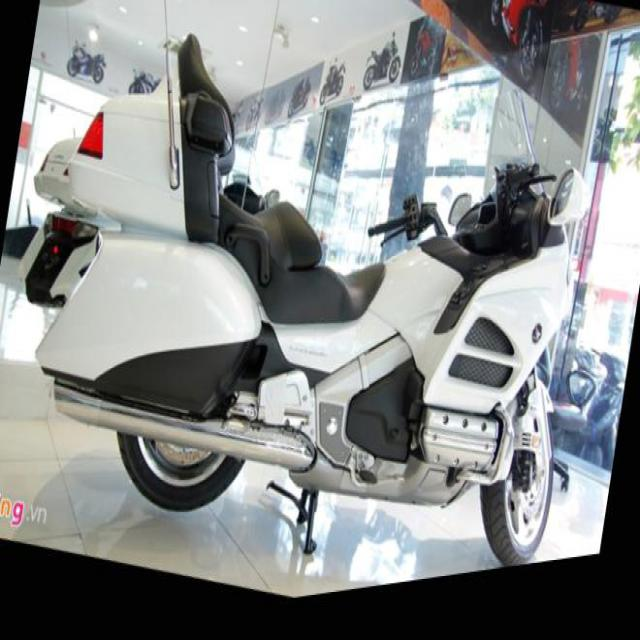Gold Wing: (0, 0, 621, 639)
